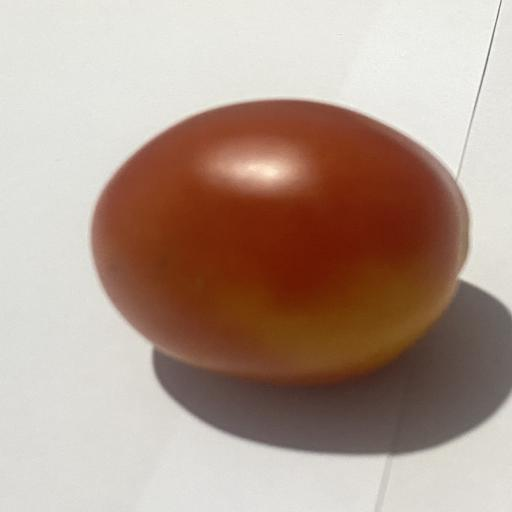ripe: (92, 100, 468, 383)
